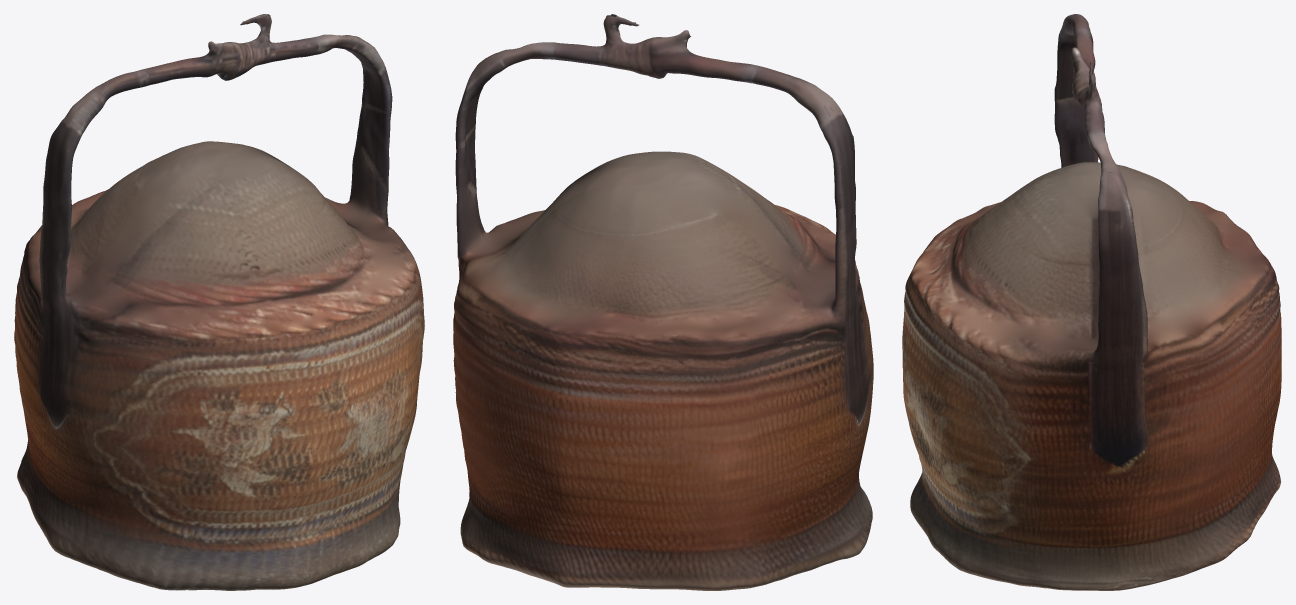
Rendered from baskets.glb.
3 views of the same model, side by side, from view 1: azimuth 30°, elevation 25°; view 2: azimuth 150°, elevation 25°; view 3: azimuth 270°, elevation 25° (orthographic). The views are drawn at different scales.
Parts seen in each view (by area): view 1: Retopo_model; view 2: Retopo_model; view 3: Retopo_model.
Part boxes in pixels (left/top/right/bottom): Retopo_model: left=14, top=14, right=424, bottom=590; Retopo_model: left=453, top=14, right=873, bottom=590; Retopo_model: left=902, top=14, right=1281, bottom=590.
Bounding box in the file's own units: 0.6454 × 0.857 × 0.6199.
Materials: 1 (1 with a texture image).
